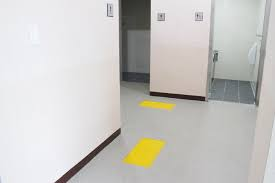guide_blocks: (126, 140, 164, 163), (141, 102, 176, 109)
